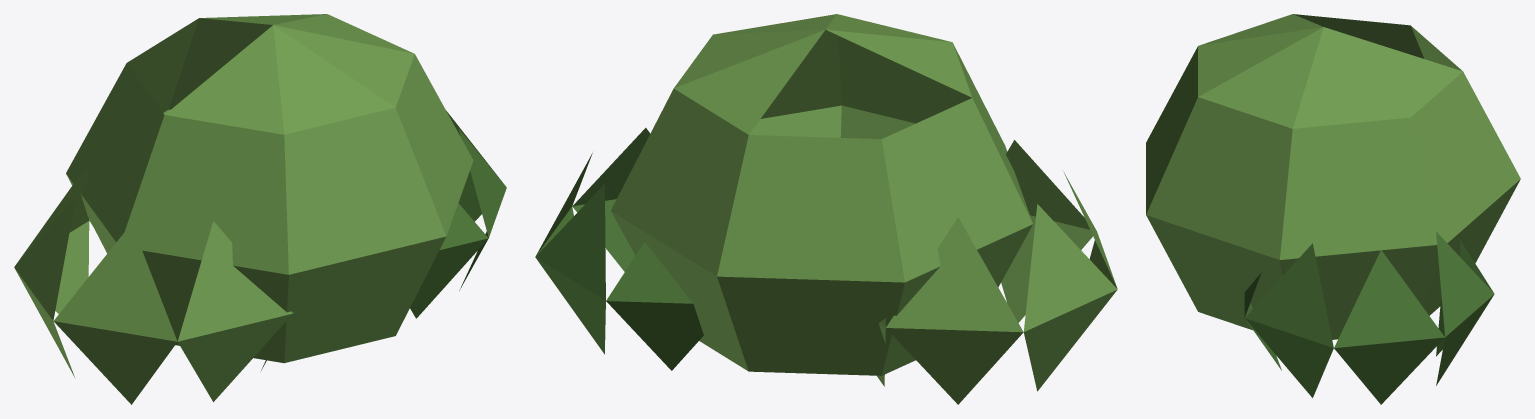
File: nature_zelkova_b_lod1.glb
The picture shows the model from 3 angles, left to right: view 1: azimuth 30°, elevation 25°; view 2: azimuth 150°, elevation 25°; view 3: azimuth 270°, elevation 25°; orthographic projection. The views are drawn at different scales.
Visible parts, largest first — view 1: nature_zelkova_b_lod1; view 2: nature_zelkova_b_lod1; view 3: nature_zelkova_b_lod1.
Part boxes in pixels (x1=…): nature_zelkova_b_lod1: x1=14, y1=14, x2=506, y2=404; nature_zelkova_b_lod1: x1=535, y1=14, x2=1117, y2=404; nature_zelkova_b_lod1: x1=1146, y1=14, x2=1520, y2=404.
Size of the model in its own units: 4.05 by 2.55 by 2.85.
